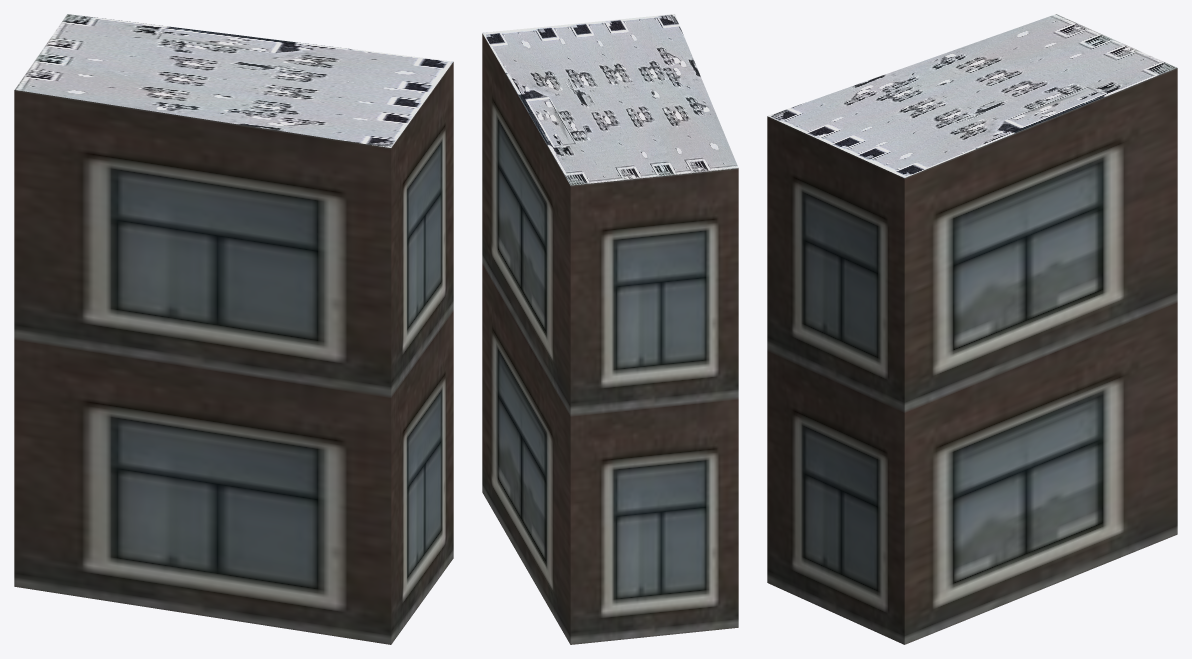
The model's file is ResTex__2875.fbx.
3 views of the same model, side by side, from view 1: azimuth 30°, elevation 25°; view 2: azimuth 150°, elevation 25°; view 3: azimuth 270°, elevation 25° (orthographic). The views are drawn at different scales.
Visible parts, largest first — view 1: CityEngineMaterial_16_m, CityEngineMaterial_15_m; view 2: CityEngineMaterial_16_m, CityEngineMaterial_15_m; view 3: CityEngineMaterial_16_m, CityEngineMaterial_15_m.
Part boxes in pixels (x1,y1,x2,y2): CityEngineMaterial_16_m: (14, 62, 453, 644); CityEngineMaterial_15_m: (14, 14, 452, 147); CityEngineMaterial_16_m: (482, 33, 738, 644); CityEngineMaterial_15_m: (482, 14, 738, 185); CityEngineMaterial_16_m: (767, 68, 1177, 644); CityEngineMaterial_15_m: (767, 14, 1177, 177).
Size of the model in its own units: 4.53 by 6 by 4.78.
Materials: 2 (2 with a texture image).
